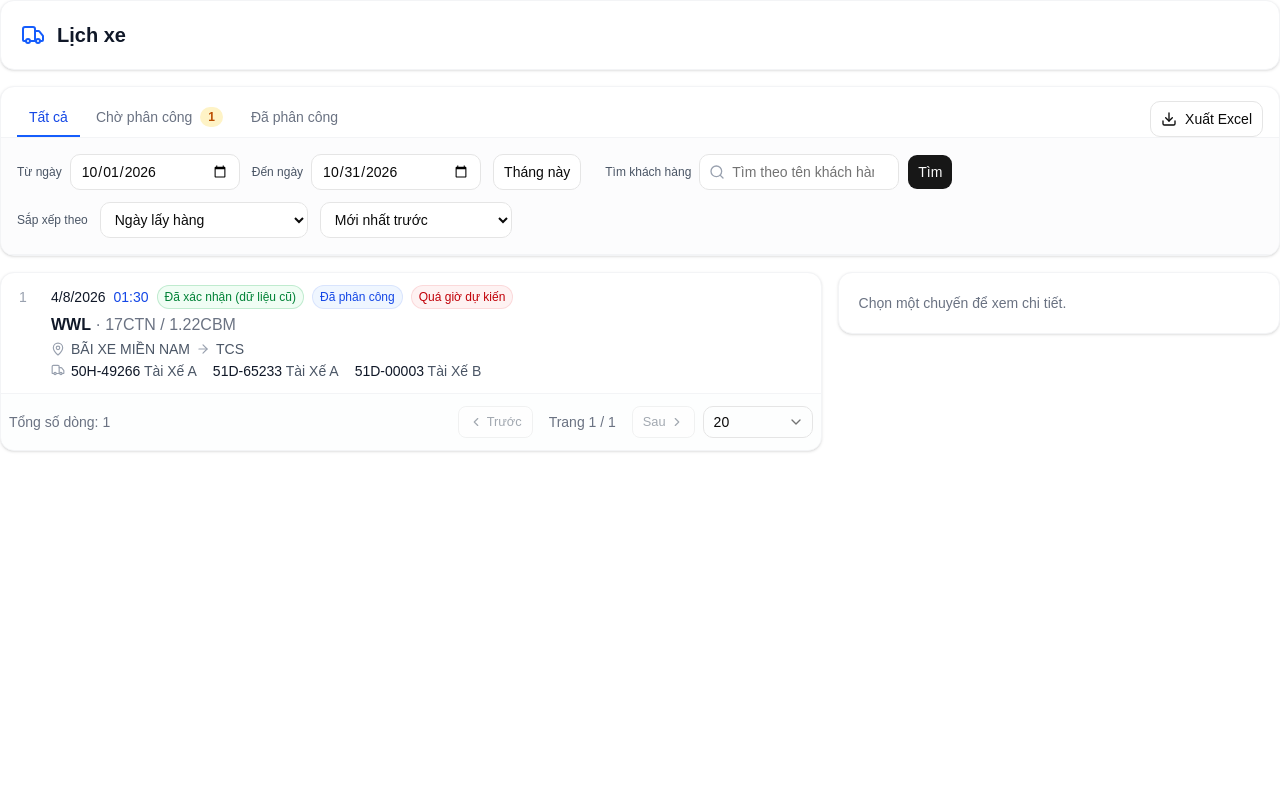
Test: TripSchedulePage › ★ dispatch — the lorries and their drivers (ADR-0004) › ★ one booking per trip, each lorry with ITS driver — and one crew control for the trip
The image size is (1280, 789).
Check: the number of list items is 1, box [1,273,821,393]
Check: the text "WWL" is shown once, box [51,316,236,333]
Click the button "WWL".
click(78, 297)  # box [19,285,805,381]
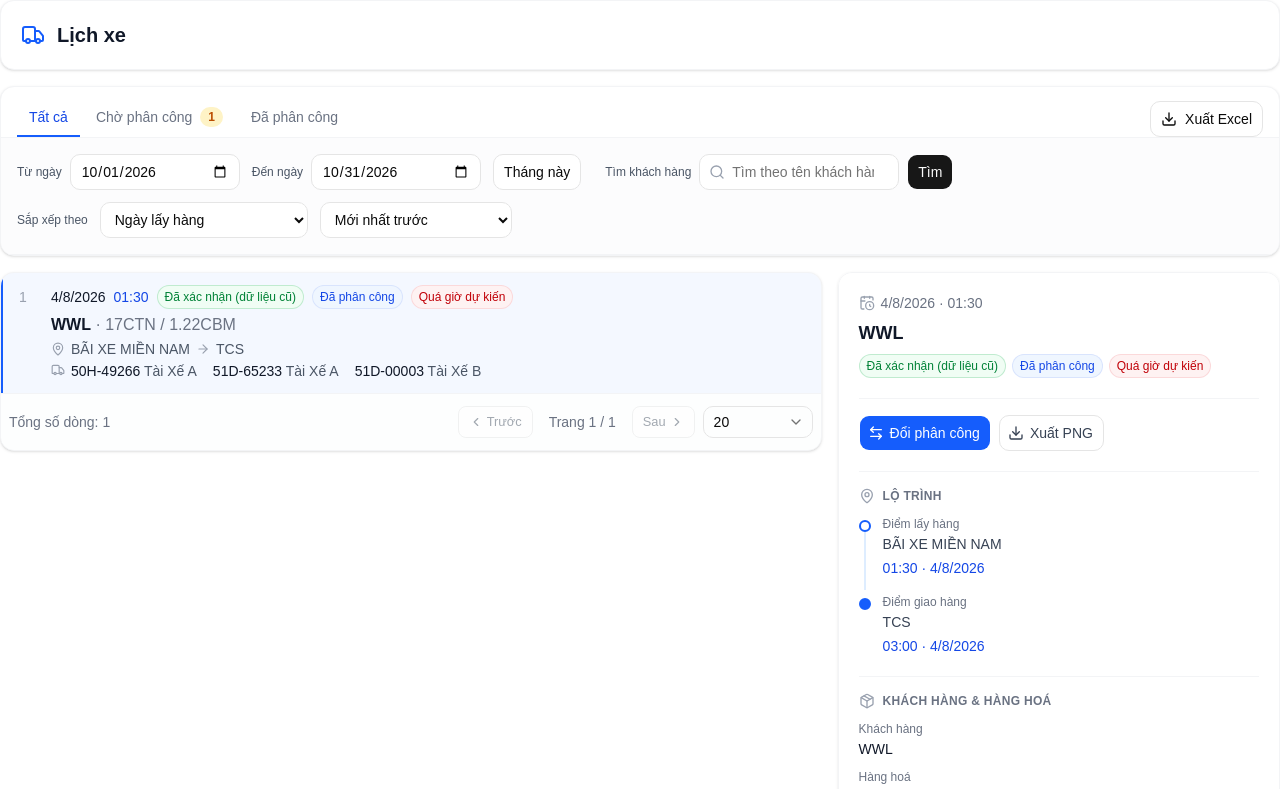
Check: the number of buttons "Đổi phân công" is 1, box [859,415,991,451]
